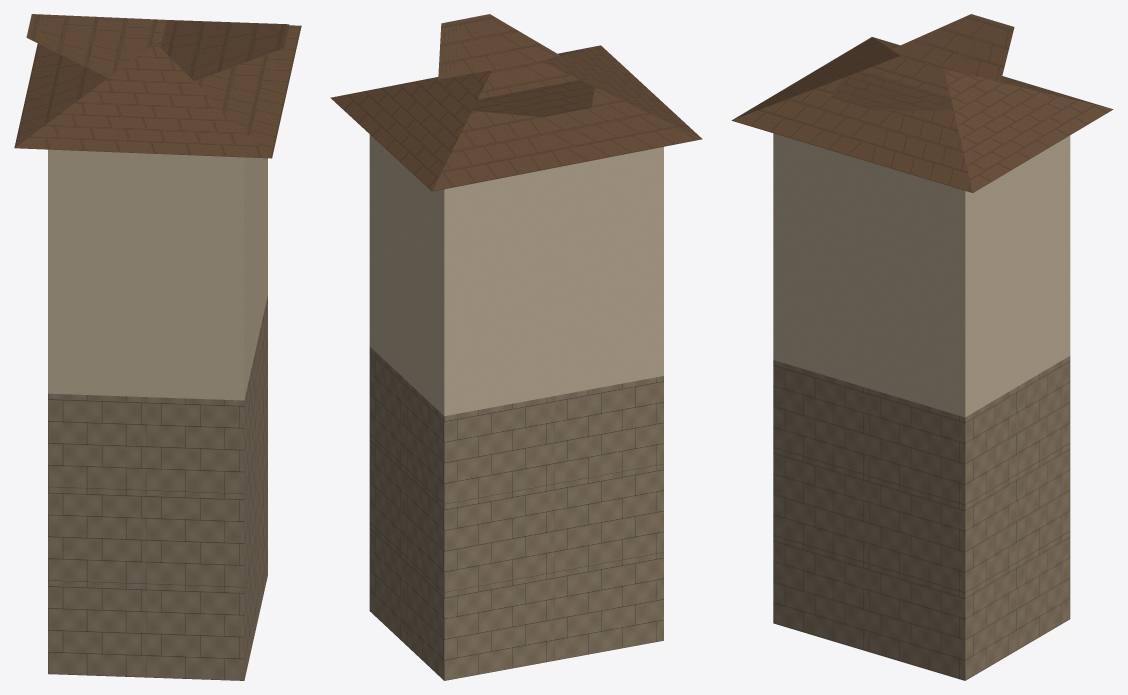
Rendered from bld_c10_19_424.gltf.
3 views of the same model, side by side, from view 1: azimuth 30°, elevation 25°; view 2: azimuth 150°, elevation 25°; view 3: azimuth 270°, elevation 25° (orthographic). The views are drawn at different scales.
Parts seen in each view (by area): view 1: bld_c10_19_424; view 2: bld_c10_19_424; view 3: bld_c10_19_424.
Part boxes in pixels (x1,y1,x2,y2): bld_c10_19_424: (14, 14, 301, 680); bld_c10_19_424: (330, 14, 702, 680); bld_c10_19_424: (731, 14, 1113, 680).
Size of the model in its own units: 6.37 by 10.6 by 6.59.
Materials: 3 (3 with a texture image).
